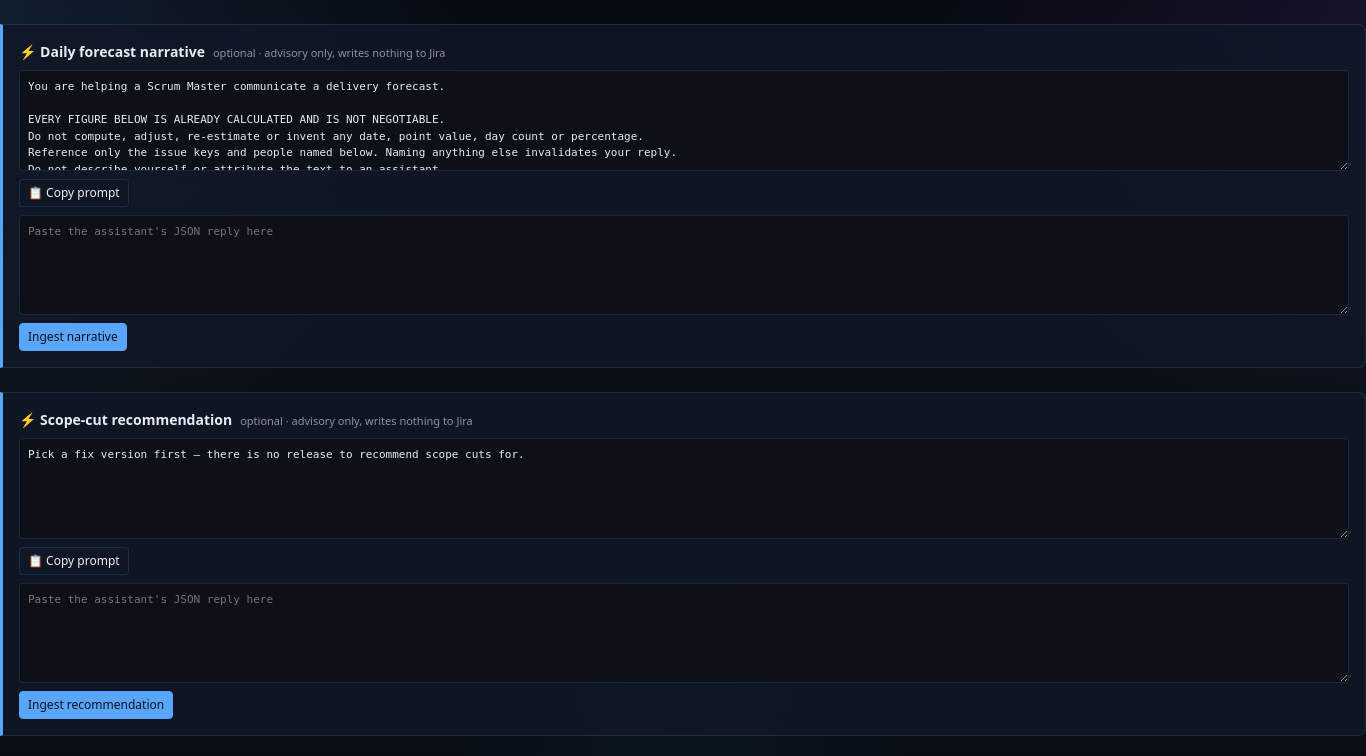
Scenario: ForecastAiPanel › shows a readable error when the reply is not JSON at all
The image size is (1366, 756).
Type "sorry, I cannot help with that" into the text box labelled "Paste the assistant's JSON reply here" below "Daily forecast narrative".
click(684, 265); type("sorry, I cannot help with that")  # box [19,214,1349,315]
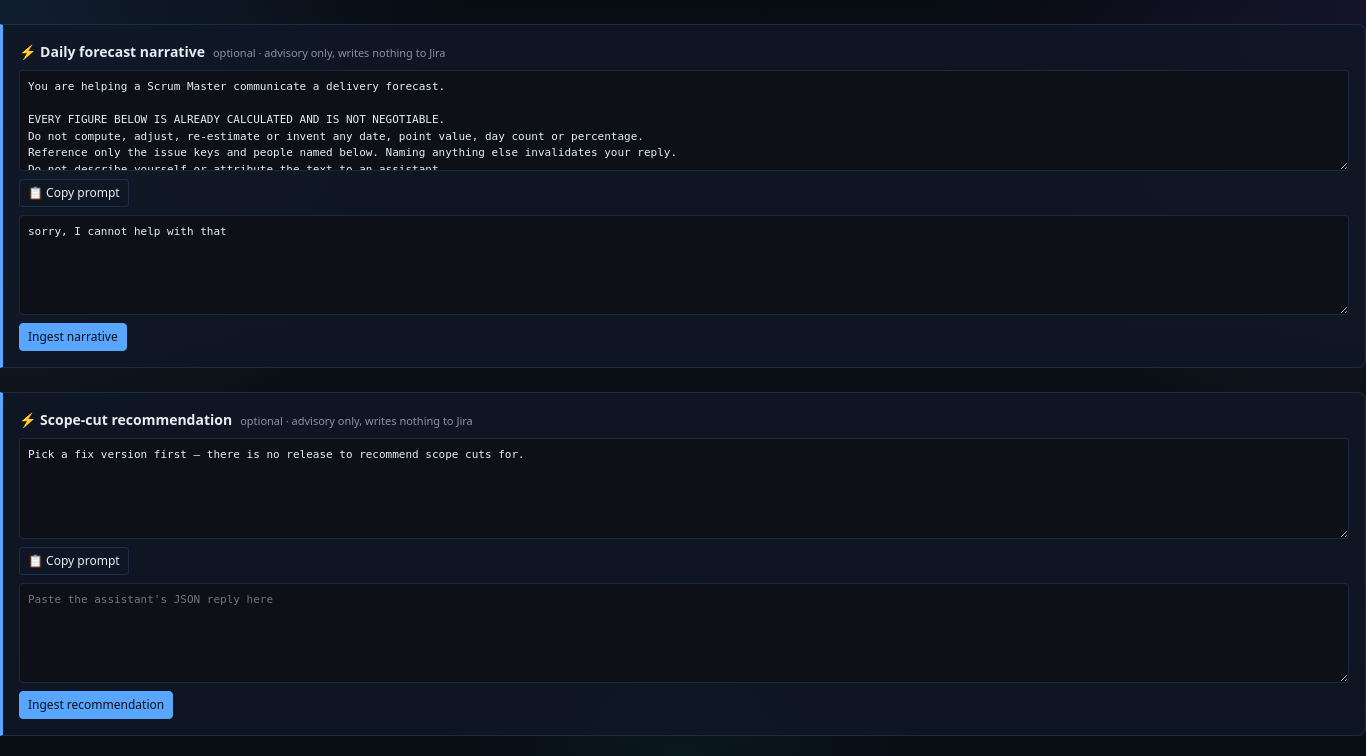
Click the button "Ingest narrative".
click(73, 337)  # box [19,323,127,351]
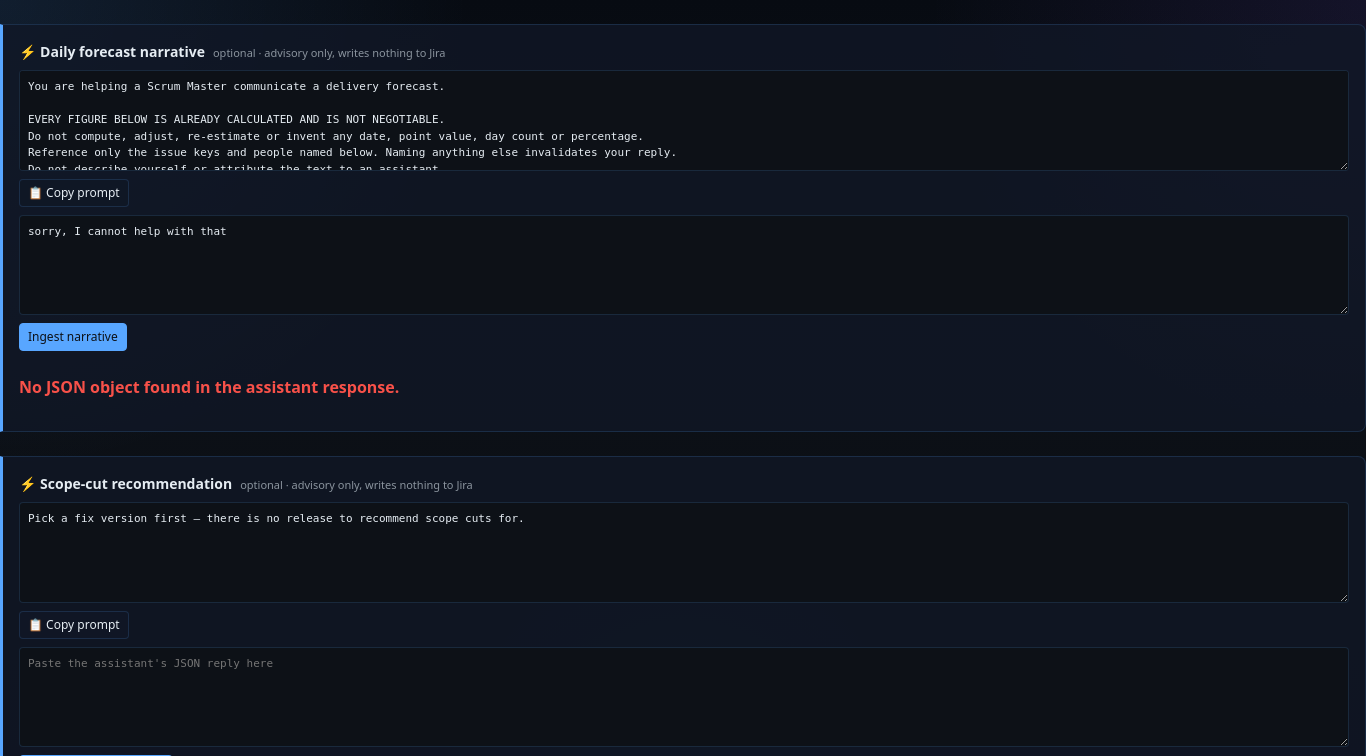
expect the message shows "No JSON object": met, box [19,376,399,398]
